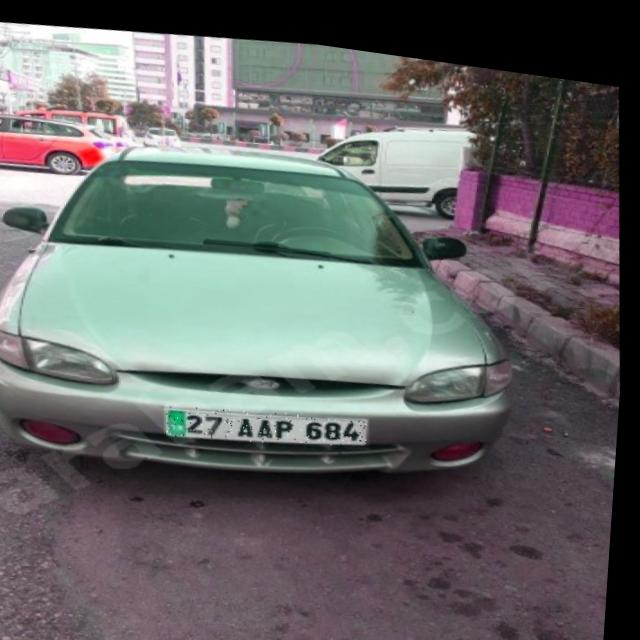license_plate: (167, 384, 376, 452)
